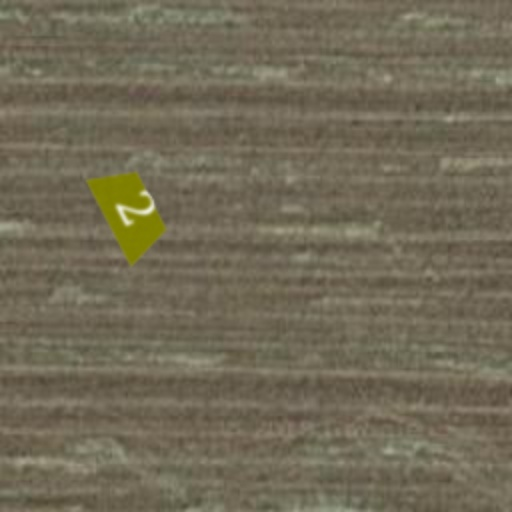trapezoid: (62, 144, 198, 280)
